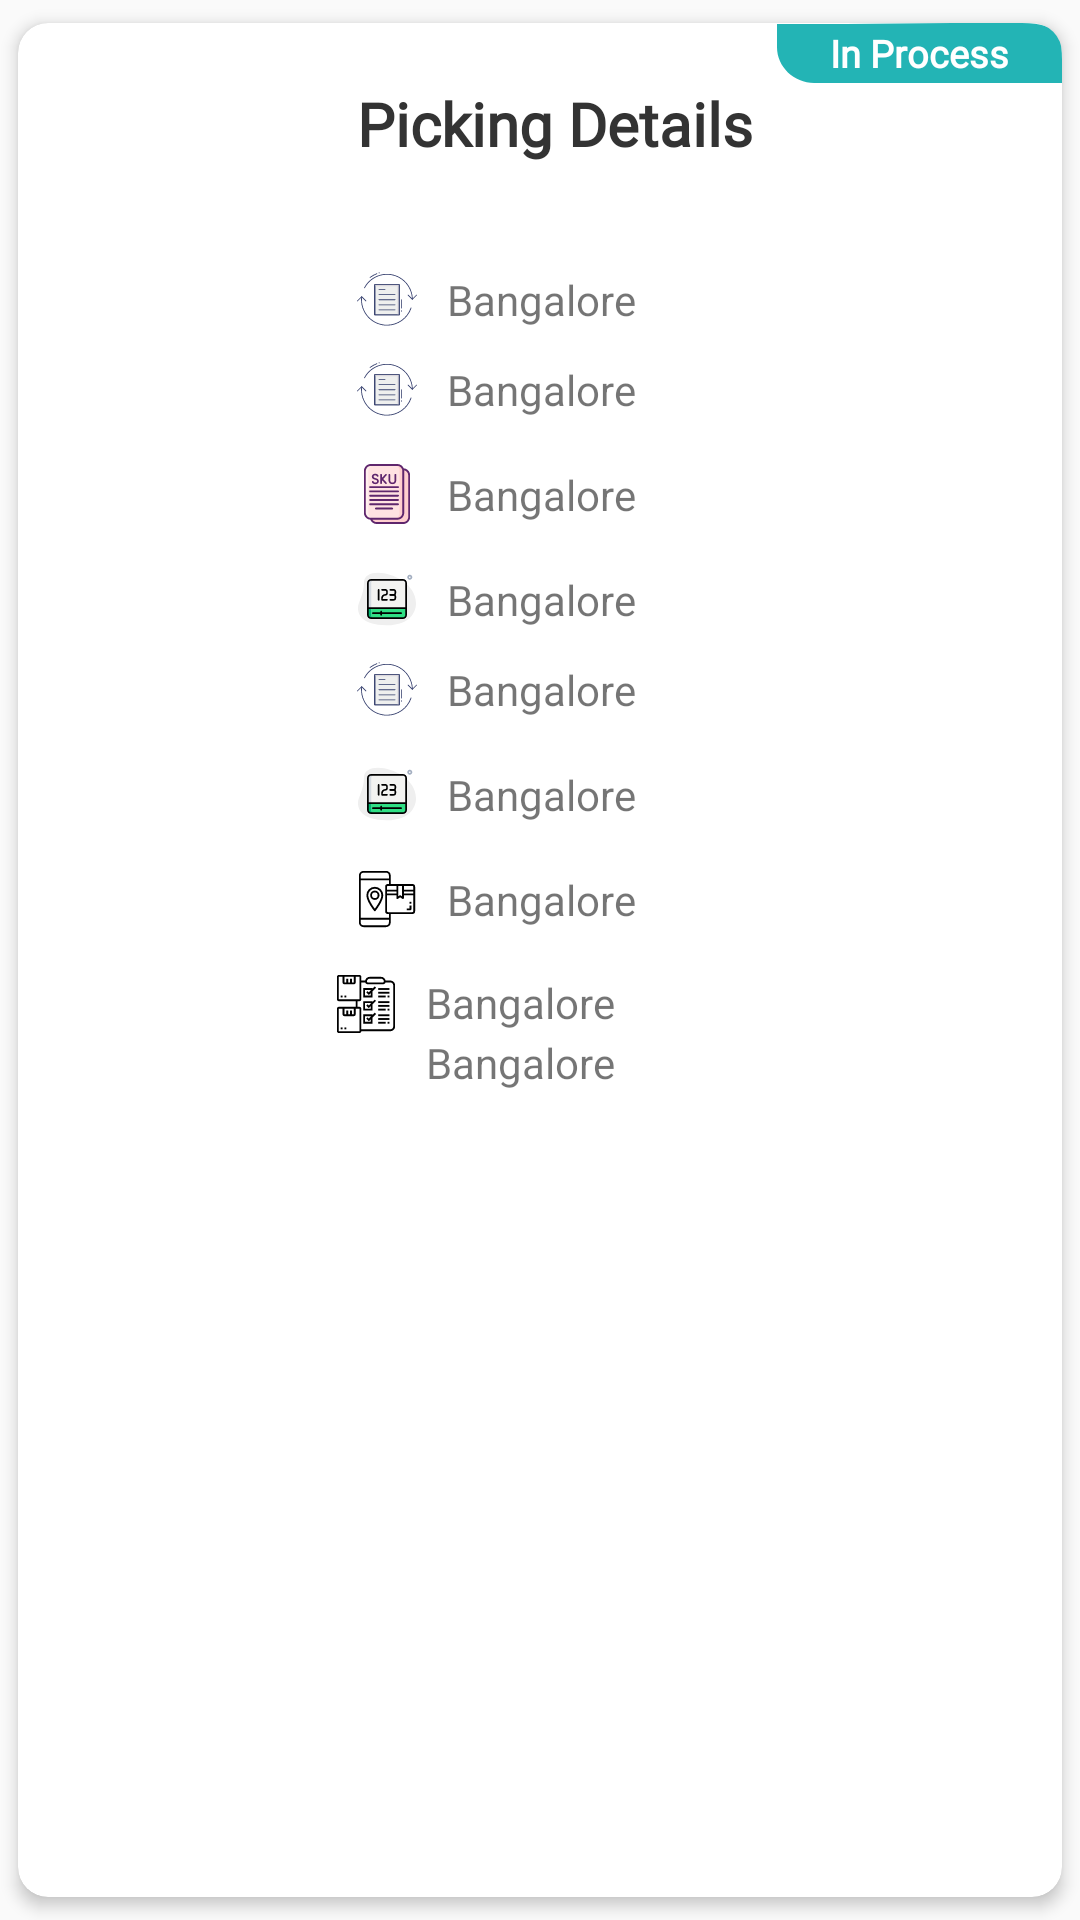

Point at icon controls on the screen. Image size 1080px x 1920px, points as [x,y].
piece: [387,599], [387,794]
shipmentlist: [366,1004]
